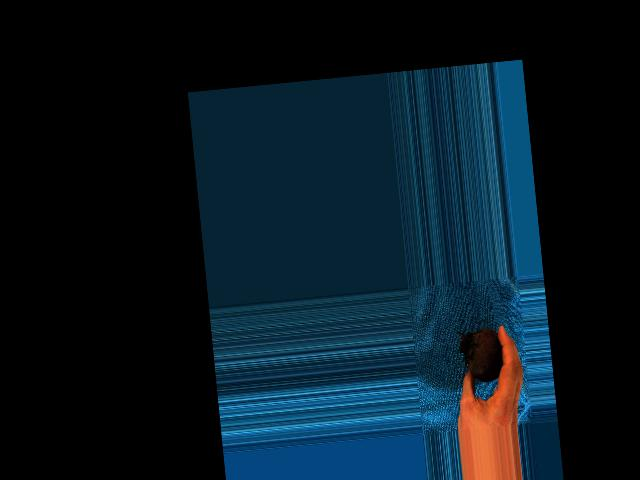beet: (456, 326, 504, 383)
